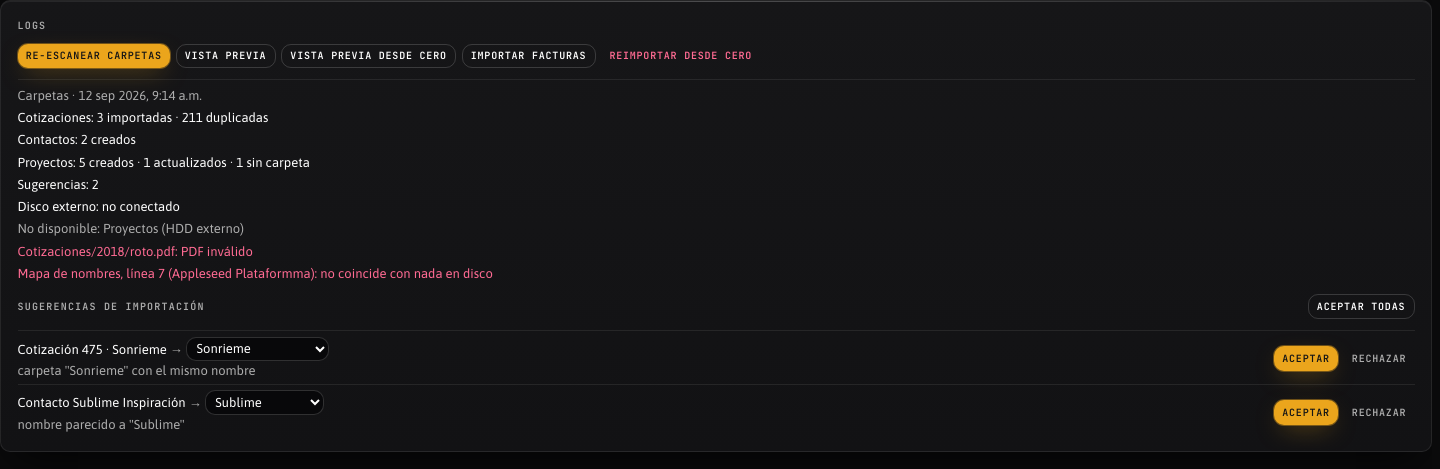
Test: Configuración → Logs › goes back to the guess when the refreshed list no longer offers the pick
Select "Sonrieme Branding" in the dropdown named "Vincular a": x=258, y=349 top-left (186, 336), bottom-right (329, 361)
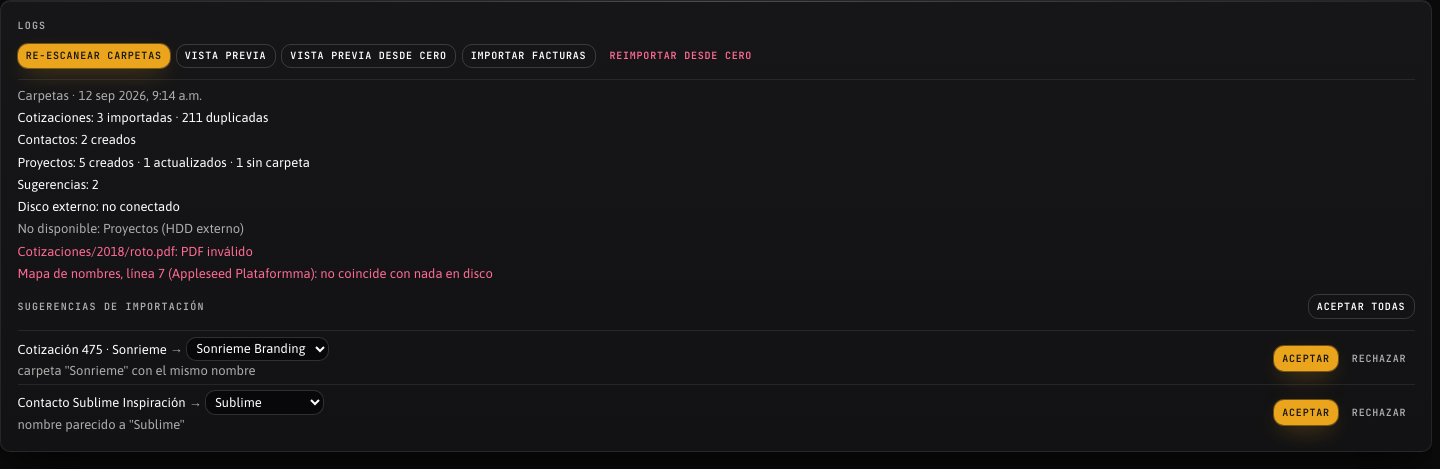
Click the button "Rechazar" in the row of "Contacto Sublime Inspiración": x=1379, y=412 top-left (1344, 400), bottom-right (1414, 425)
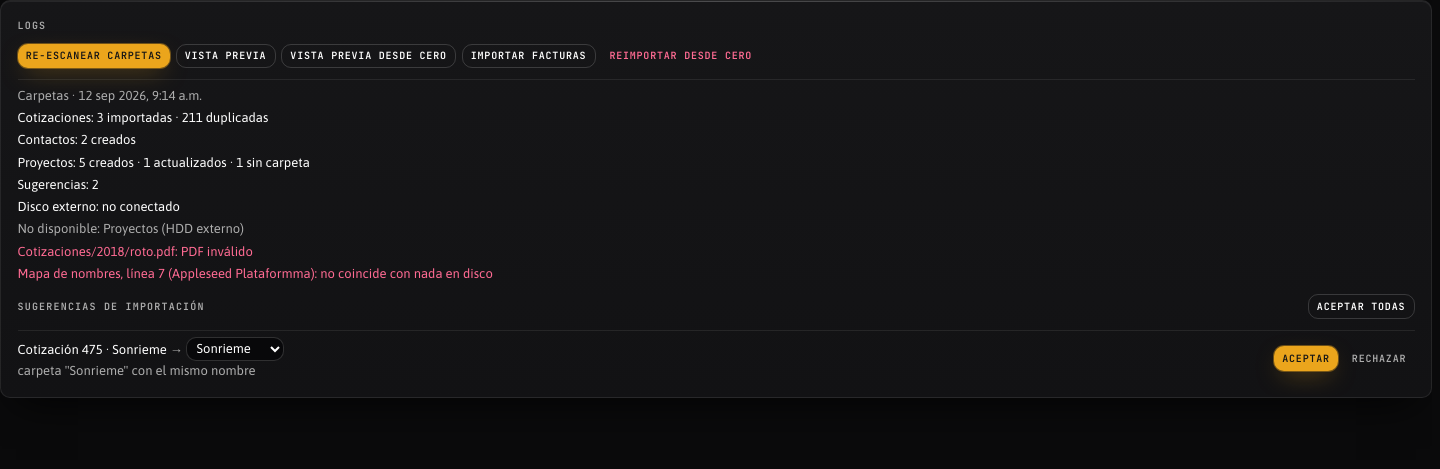
Check: the text "Contacto Sublime Inspiración" is gone
